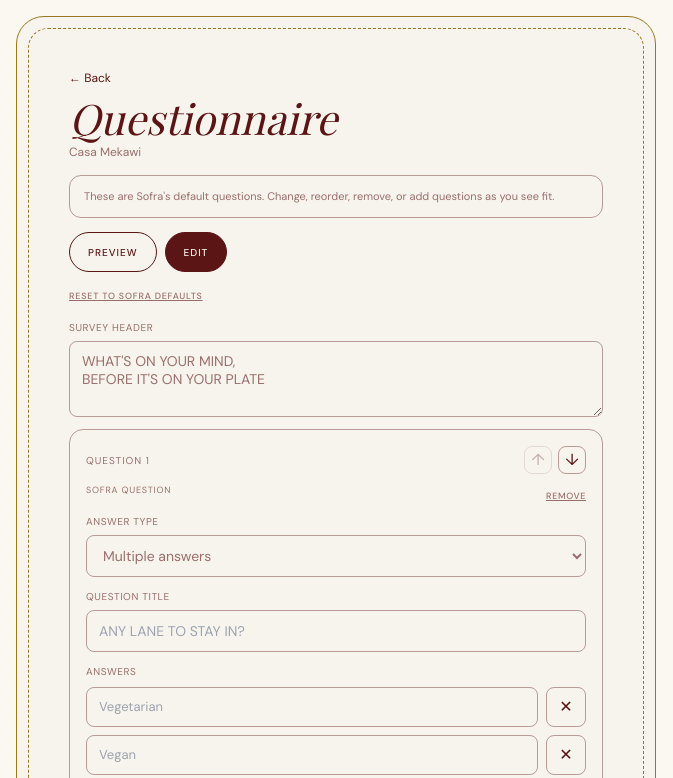
it: switches to PREVIEW and shows the live guest-facing form
Click the tab "PREVIEW" at (113, 252), box [69,232,156,272]
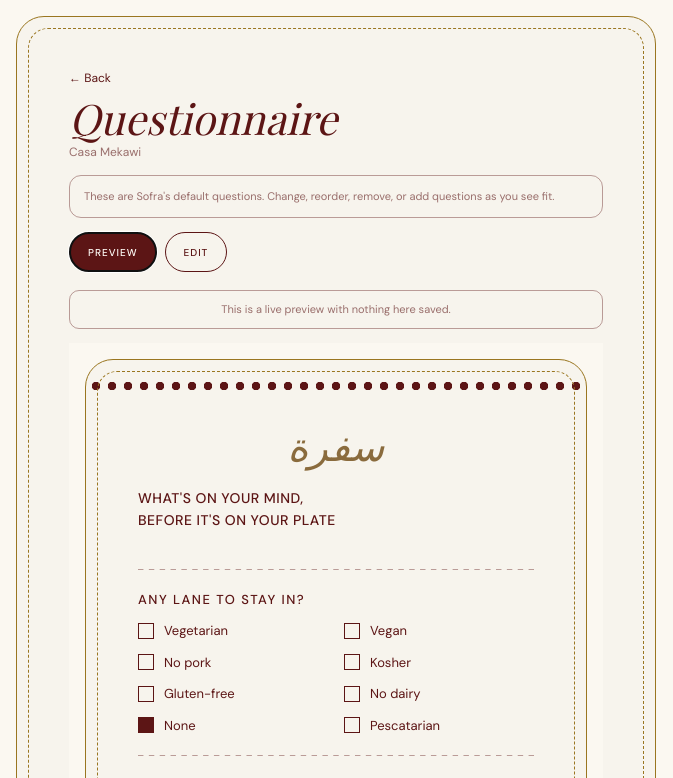
Expected: the heading "ANY LANE TO STAY IN?" is shown, [138,590,305,608]
Expected: the checkbox labelled "Vegetarian" is shown, [138,622,228,639]
Expected: the text "This is a live preview with nothing here saved." is shown, [69,290,603,328]
